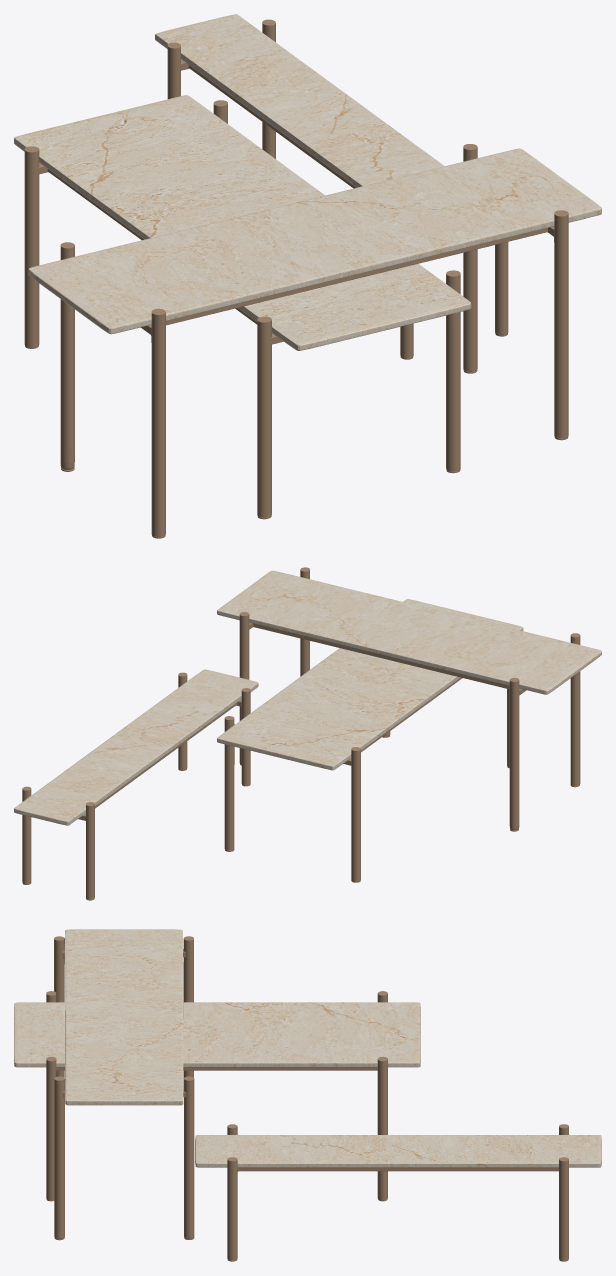
Rendered from SBH_Steps.glb.
3 views of the same model, one above another, from view 1: azimuth 30°, elevation 25°; view 2: azimuth 150°, elevation 25°; view 3: azimuth 270°, elevation 25° (orthographic). The views are drawn at different scales.
Parts seen in each view (by area): view 1: Steps; view 2: Steps; view 3: Steps.
Part boxes in pixels (x1,y1,x2,y2): Steps: (14,14,601,538); Steps: (14,567,601,900); Steps: (14,929,601,1261).
Bounding box in the file's own units: 1.14 × 0.477 × 1.59.
2 materials, 1 textured.
